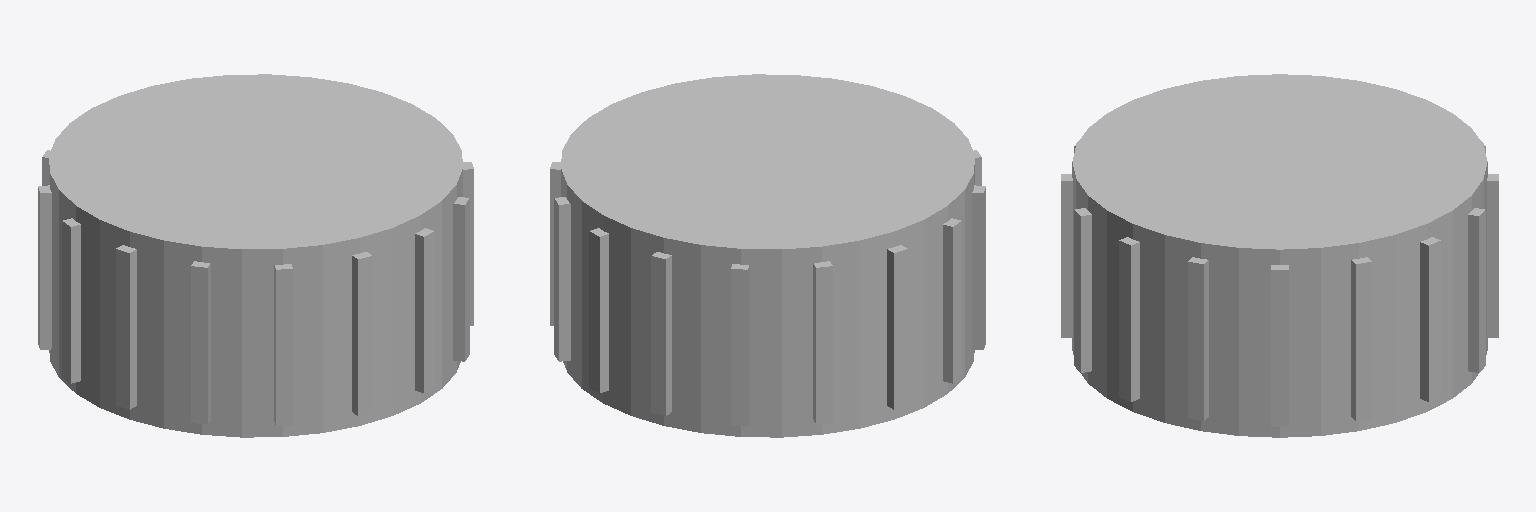
File: grouser_wheel.obj
3 views of the same model, side by side, from view 1: azimuth 30°, elevation 25°; view 2: azimuth 150°, elevation 25°; view 3: azimuth 270°, elevation 25° (orthographic).
Visible parts, largest first — view 1: Cube.003; view 2: Cube.003; view 3: Cube.003.
Part boxes in pixels (x1,y1,x2,y2): Cube.003: (38, 74, 473, 437); Cube.003: (550, 74, 985, 437); Cube.003: (1061, 74, 1498, 437).
Size of the model in its own units: 1.92 by 0.9085 by 1.92.